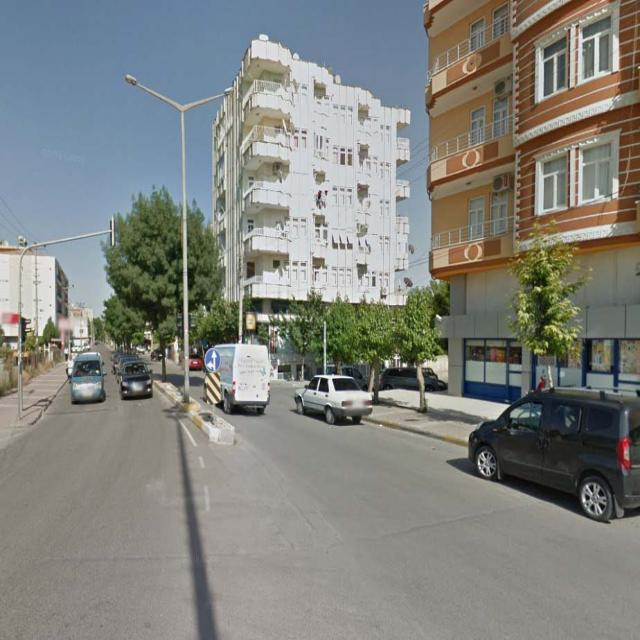ilerisol: (205, 350, 220, 370)
